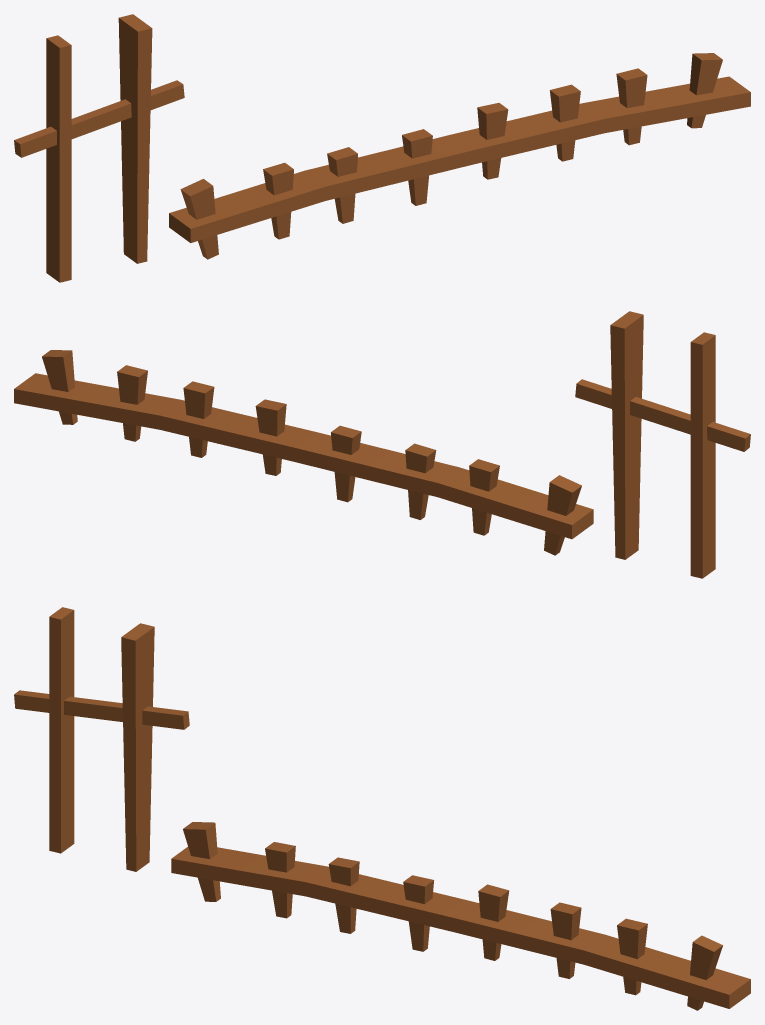
Rendered from Headge 1.fbx.
3 renders of one model, top to bottom at view 1: azimuth 30°, elevation 25°; view 2: azimuth 150°, elevation 25°; view 3: azimuth 330°, elevation 25°, orthographic.
Visible parts, largest first — view 1: pCube4, pCube5, pCube6, pCube7; view 2: pCube4, pCube5, pCube6, pCube7; view 3: pCube4, pCube5, pCube6, pCube7.
Part boxes in pixels (box(x1,y1,x2,y2)): pCube4: box(169, 53, 750, 259); pCube5: box(118, 14, 152, 263); pCube6: box(46, 35, 71, 282); pCube7: box(14, 80, 184, 157); pCube4: box(14, 350, 593, 555); pCube5: box(610, 311, 643, 559); pCube6: box(690, 332, 715, 578); pCube7: box(575, 379, 750, 451); pCube4: box(171, 822, 750, 1010); pCube5: box(121, 623, 154, 871); pCube6: box(49, 607, 74, 853); pCube7: box(14, 690, 189, 729).
Bounding box in the file's own units: 45.42 × 15.09 × 2.35.
